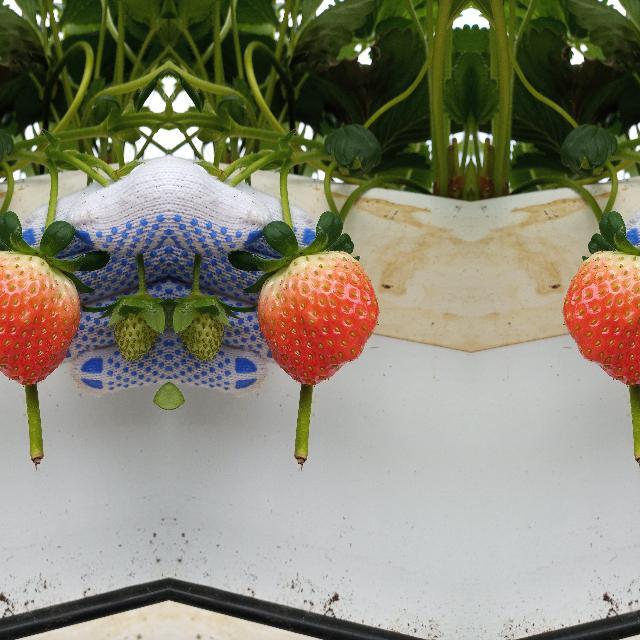Health_100: (255, 250, 379, 388), (0, 250, 81, 387), (562, 250, 640, 387)
Health_25: (170, 284, 230, 372), (106, 284, 166, 372)
